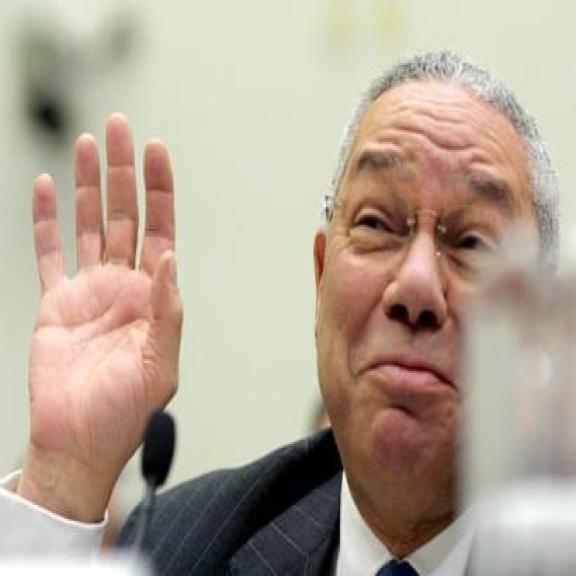face: (302, 68, 551, 512)
